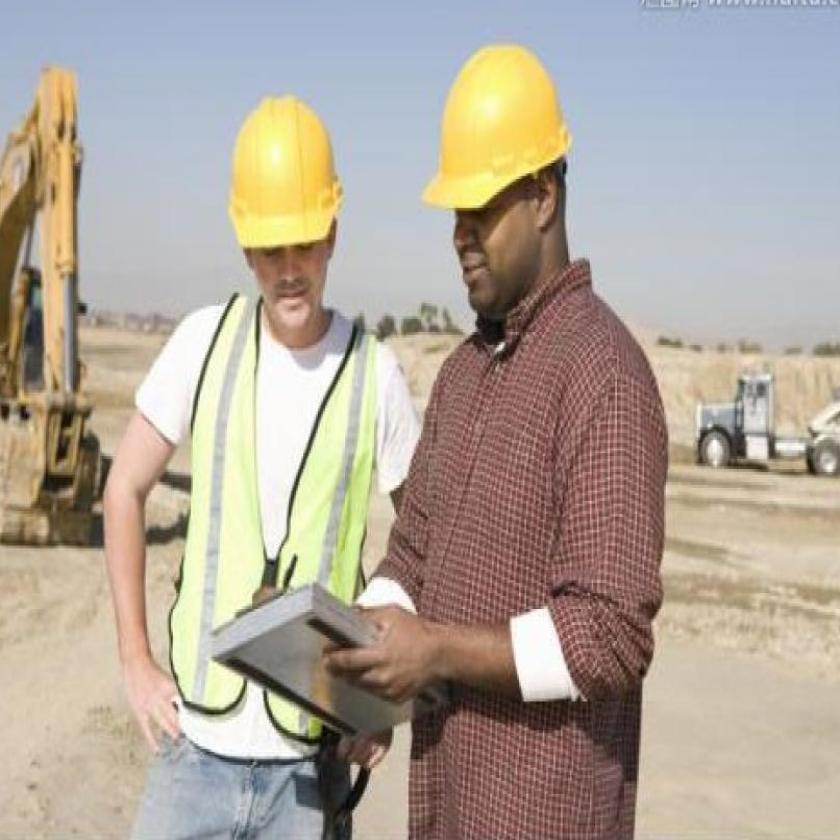Con_casco: (424, 37, 572, 328), (224, 85, 354, 345)
